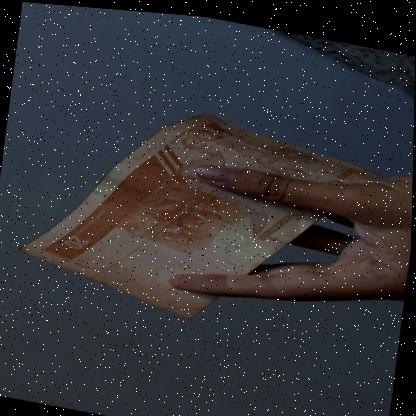twenty-back-vef: (13, 78, 386, 345)
